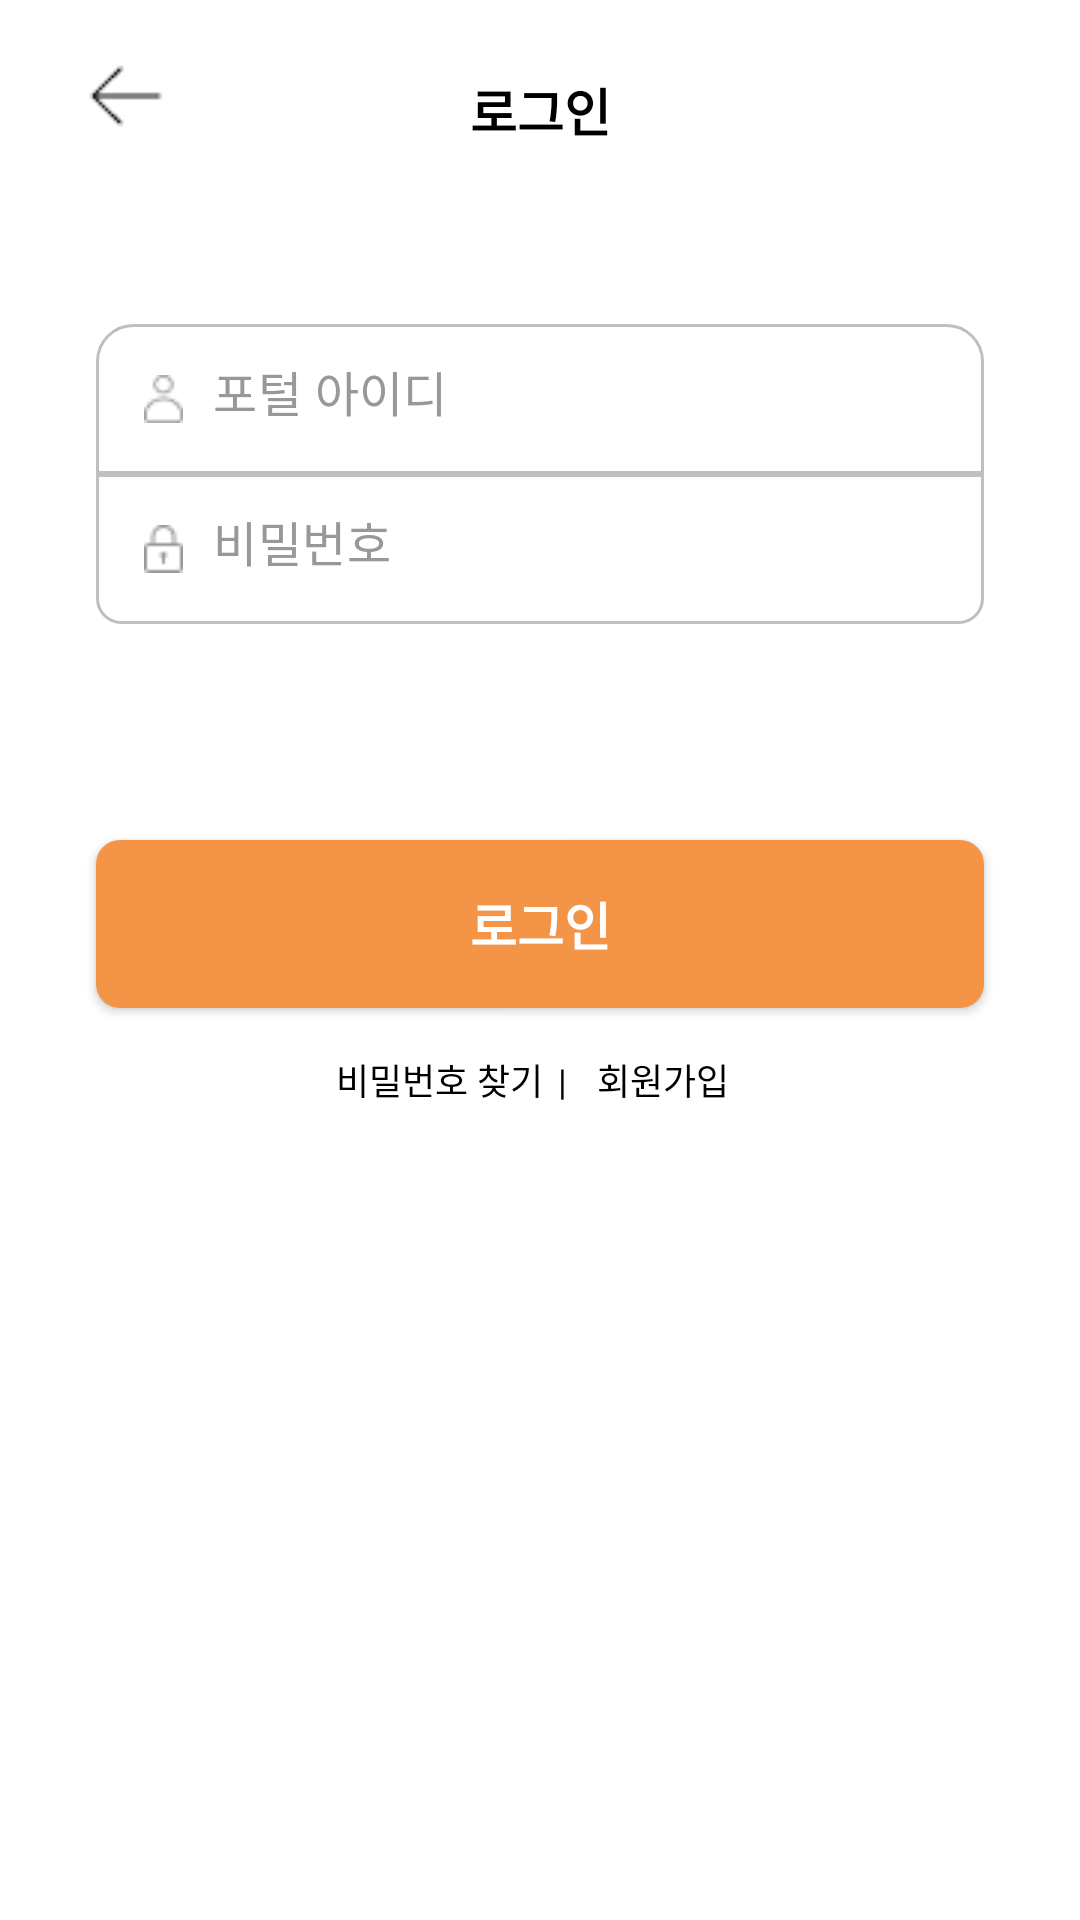

Named icons in this screenshot (1080 × 1920) and their centers, [x,y]:
back: [126,96]
